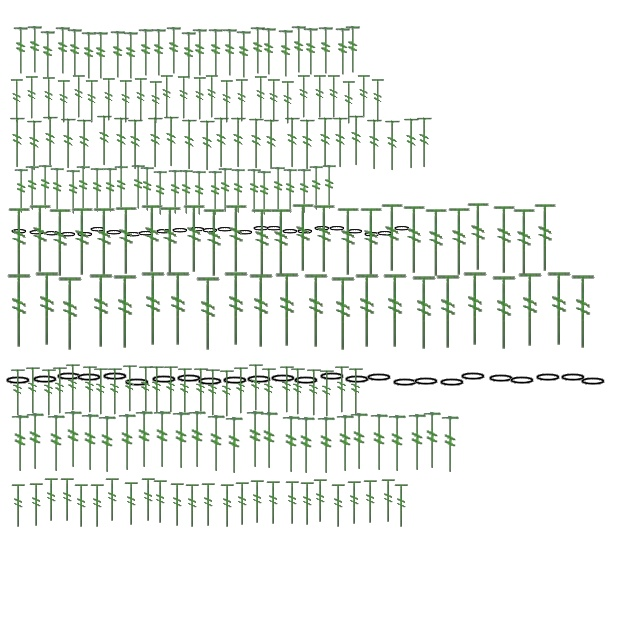chain: (31, 374, 59, 386), (75, 372, 103, 384), (150, 374, 178, 386), (196, 376, 224, 388), (245, 374, 273, 386), (343, 374, 371, 386), (365, 372, 393, 384), (412, 376, 440, 388), (534, 372, 562, 384), (559, 372, 587, 384), (579, 376, 607, 388), (4, 376, 32, 386), (55, 372, 83, 382), (101, 372, 129, 382), (123, 378, 151, 388), (175, 374, 203, 384), (221, 376, 249, 386), (269, 374, 297, 384), (292, 376, 320, 386), (318, 372, 346, 382), (391, 378, 419, 388), (438, 378, 466, 388), (459, 372, 487, 382), (487, 374, 515, 384), (508, 376, 536, 386), (10, 228, 28, 236), (43, 230, 61, 238), (89, 226, 107, 234), (137, 230, 155, 238), (155, 228, 173, 236), (188, 226, 206, 234), (216, 226, 234, 234), (281, 228, 299, 236), (296, 228, 314, 236), (346, 228, 364, 236), (376, 230, 394, 238), (28, 230, 46, 236), (59, 232, 77, 238), (76, 232, 94, 238), (105, 230, 123, 236), (124, 232, 142, 238), (171, 228, 189, 234), (201, 228, 219, 234), (236, 230, 254, 236), (252, 226, 270, 232), (265, 226, 283, 232), (313, 226, 331, 232), (328, 226, 346, 232), (363, 232, 381, 238), (393, 226, 411, 232)
fan: (164, 270, 194, 348), (222, 270, 252, 348), (302, 272, 332, 350), (410, 274, 440, 352), (490, 274, 520, 352), (56, 276, 86, 352), (194, 276, 224, 352), (434, 274, 464, 350), (516, 272, 546, 348), (6, 272, 34, 350), (34, 270, 62, 348), (88, 272, 116, 350), (140, 270, 168, 348), (248, 272, 276, 350), (354, 272, 382, 350), (382, 272, 410, 350), (462, 270, 490, 348), (546, 270, 574, 348), (112, 274, 140, 350), (274, 272, 302, 348), (330, 276, 358, 352), (570, 274, 598, 350), (6, 206, 34, 278), (290, 202, 318, 274), (358, 206, 386, 278), (446, 206, 474, 278), (532, 202, 560, 274), (268, 208, 296, 278), (70, 206, 96, 278), (92, 206, 118, 278), (336, 206, 362, 278), (380, 202, 406, 274), (402, 204, 428, 276), (492, 204, 518, 276), (28, 204, 54, 274), (48, 208, 74, 278), (114, 206, 140, 276), (140, 204, 166, 274), (158, 206, 184, 276), (182, 204, 208, 274), (202, 208, 228, 278), (224, 204, 250, 274), (250, 208, 276, 278), (312, 204, 338, 274), (424, 208, 450, 278), (466, 202, 492, 272), (512, 208, 538, 278), (10, 414, 30, 474), (25, 412, 45, 472), (46, 414, 66, 474), (63, 410, 83, 470), (134, 410, 154, 470), (152, 410, 172, 470), (187, 410, 207, 470), (206, 414, 226, 474), (224, 416, 244, 476), (245, 410, 265, 470), (296, 416, 316, 476), (316, 416, 336, 476), (335, 414, 355, 474), (349, 412, 369, 472), (387, 414, 407, 474), (80, 414, 100, 472), (97, 416, 117, 474), (117, 414, 137, 472), (171, 412, 191, 470), (259, 412, 279, 470), (281, 416, 301, 474), (369, 414, 389, 472), (407, 414, 427, 472), (422, 412, 442, 470), (440, 416, 460, 474), (162, 114, 182, 170), (198, 118, 218, 174), (402, 116, 422, 172), (8, 116, 28, 170), (112, 116, 132, 170), (126, 118, 146, 172), (146, 116, 166, 170), (180, 118, 200, 172), (212, 116, 232, 170), (262, 118, 282, 172), (298, 118, 318, 172), (316, 116, 336, 170), (26, 118, 44, 174), (42, 114, 60, 170), (60, 116, 78, 172), (248, 116, 266, 172), (384, 118, 402, 174), (76, 118, 94, 172), (96, 114, 114, 168), (230, 116, 248, 170), (284, 116, 302, 170), (332, 116, 350, 170), (348, 114, 366, 168), (366, 118, 384, 172), (416, 116, 434, 170), (64, 362, 82, 414), (81, 364, 99, 416), (92, 366, 110, 418), (106, 366, 124, 418), (137, 364, 155, 416), (148, 364, 166, 416), (162, 364, 180, 416), (176, 366, 194, 418), (192, 366, 210, 418), (218, 368, 236, 420), (247, 362, 265, 414), (260, 366, 278, 418), (278, 364, 296, 416), (289, 366, 307, 418), (318, 368, 336, 420), (333, 364, 351, 416), (347, 366, 365, 418), (12, 26, 30, 76), (54, 26, 72, 76), (66, 28, 84, 78), (150, 28, 168, 78), (9, 368, 27, 418), (24, 366, 42, 416), (40, 368, 58, 418), (51, 366, 69, 416), (121, 364, 139, 414), (204, 368, 222, 418), (232, 366, 250, 416), (305, 368, 323, 418), (26, 26, 44, 74), (80, 32, 98, 80), (92, 32, 110, 80), (122, 32, 140, 80), (180, 32, 198, 80), (260, 28, 278, 76), (290, 26, 308, 74), (302, 28, 320, 76), (334, 28, 352, 76), (344, 26, 362, 74), (28, 482, 46, 528), (200, 482, 218, 528), (284, 480, 302, 526), (312, 478, 330, 524), (346, 480, 364, 526), (380, 478, 398, 524), (40, 30, 56, 80), (110, 30, 126, 80), (138, 28, 154, 78), (166, 26, 182, 76), (192, 28, 208, 78), (208, 28, 224, 78), (222, 28, 238, 78), (236, 30, 252, 80), (250, 26, 266, 76), (318, 26, 334, 76), (10, 484, 28, 528), (104, 478, 122, 522), (140, 478, 158, 522), (152, 480, 170, 524), (184, 484, 202, 528), (234, 482, 252, 526), (330, 484, 348, 528), (362, 480, 380, 524), (278, 30, 294, 78), (24, 74, 40, 122), (56, 78, 72, 126), (84, 78, 100, 126), (101, 76, 117, 124), (118, 78, 134, 126), (133, 76, 149, 124), (176, 74, 192, 122), (219, 78, 235, 126), (253, 74, 269, 122), (9, 78, 25, 124), (41, 76, 57, 122), (71, 74, 87, 120), (148, 80, 164, 126), (159, 74, 175, 120), (192, 76, 208, 122), (204, 74, 220, 120), (234, 78, 250, 124), (266, 78, 282, 124), (280, 80, 296, 126), (296, 74, 312, 120), (312, 74, 328, 120), (326, 74, 342, 120), (341, 80, 357, 126), (356, 74, 372, 120), (370, 78, 386, 124), (13, 168, 29, 214), (24, 165, 40, 211), (37, 164, 53, 210), (49, 167, 65, 213), (65, 169, 81, 215), (75, 165, 91, 211), (89, 167, 105, 213), (102, 167, 118, 213), (113, 165, 129, 211), (130, 164, 146, 210), (139, 166, 155, 212), (152, 170, 168, 216), (167, 169, 183, 215), (178, 169, 194, 215), (191, 170, 207, 216), (207, 170, 223, 216), (217, 167, 233, 213), (230, 168, 246, 214), (246, 168, 262, 214), (256, 170, 272, 216), (270, 166, 286, 212), (282, 168, 298, 214), (296, 168, 312, 214), (308, 165, 324, 211), (321, 164, 337, 210), (170, 482, 186, 528), (266, 480, 282, 526), (44, 478, 60, 522), (60, 478, 76, 522), (74, 484, 90, 528), (90, 484, 106, 528), (124, 482, 140, 526), (220, 484, 236, 528), (250, 480, 266, 524), (300, 482, 316, 526), (394, 484, 410, 528)
